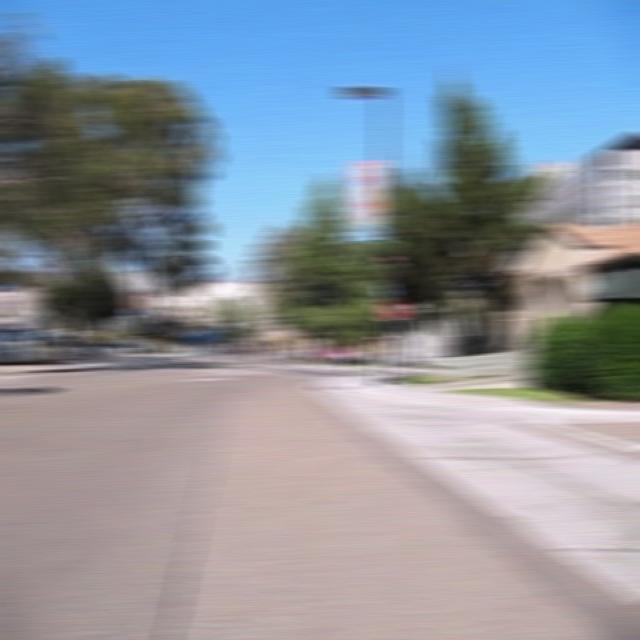stop: (380, 295, 409, 320)
